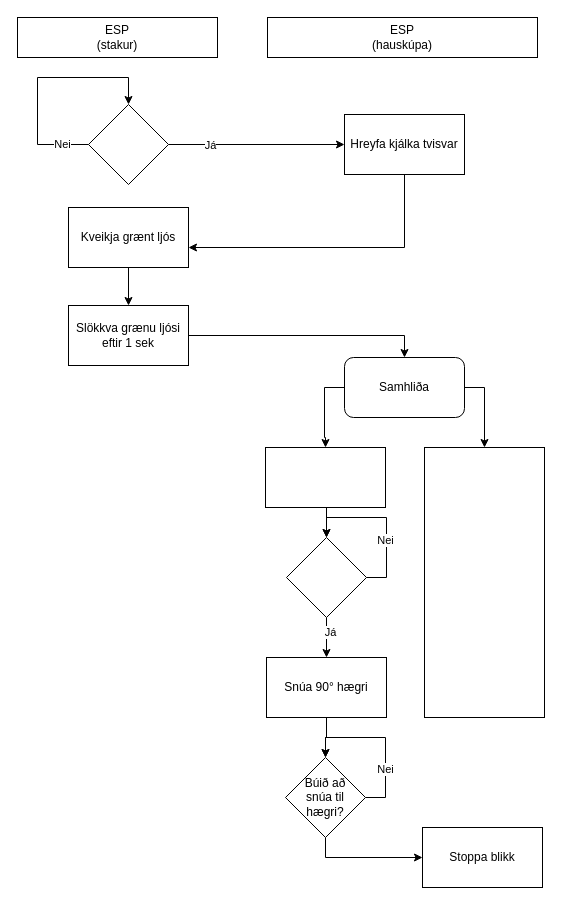
Image size: 562x905. Some labels were removed from this diagram. Each missing label, with the box of its shape:
Blikka augum: (424, 446, 544, 718)
Búið að snúa til vinstri?: (286, 536, 366, 618)
Snúa 90° vinstri: (264, 446, 386, 508)
Ýtt á takka?: (88, 104, 168, 184)
